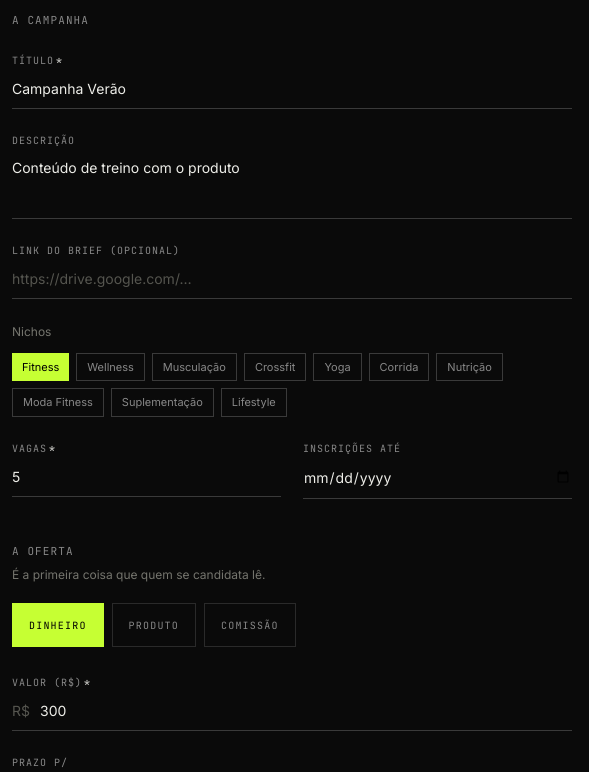
it: CampaignForm — campos por tipo de oferta › troca os campos ao mudar o tipo de oferta
Click the button "Produto": point(154, 625) [112, 603, 196, 647]
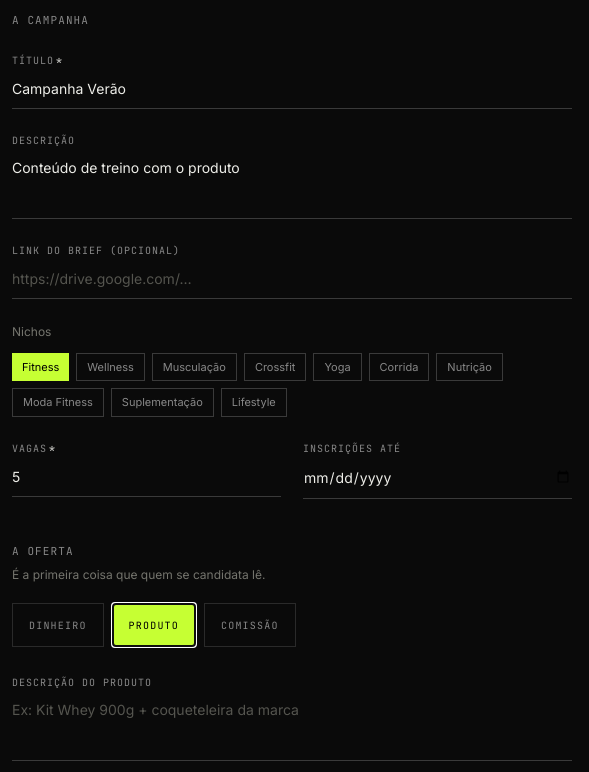
Check: the text box labelled "Descrição do produto" is shown, box [12, 700, 572, 720]
Check: the label labelled "Valor (R$)" is gone
